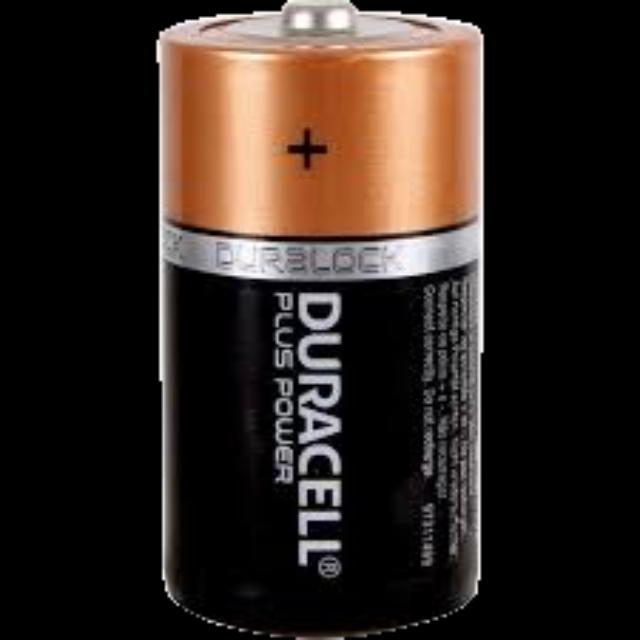Battery: (156, 0, 484, 640)
